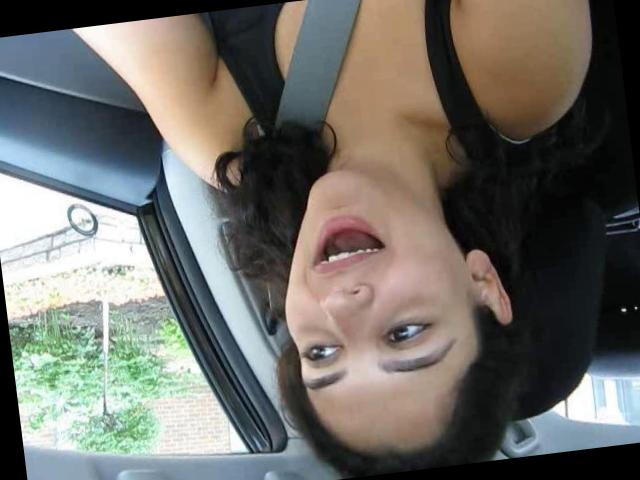eye_open: (378, 312, 438, 354), (297, 334, 349, 374)
face: (262, 154, 468, 412)
mouth_open: (295, 205, 394, 281)
